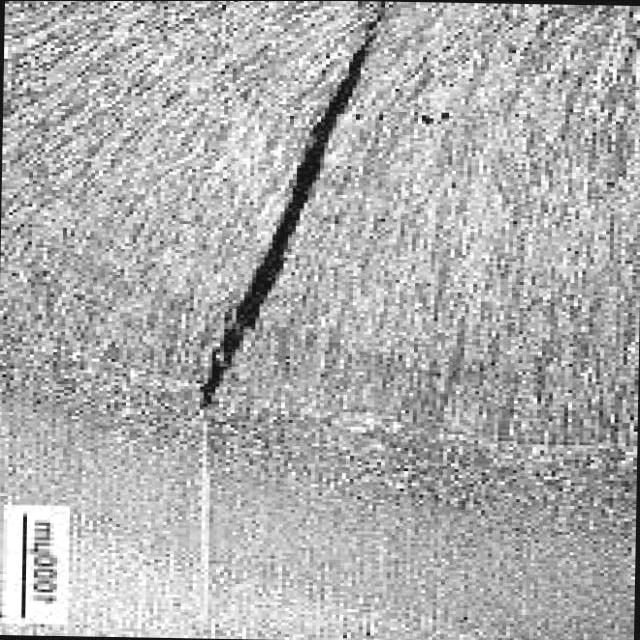defect: (194, 6, 399, 422)
